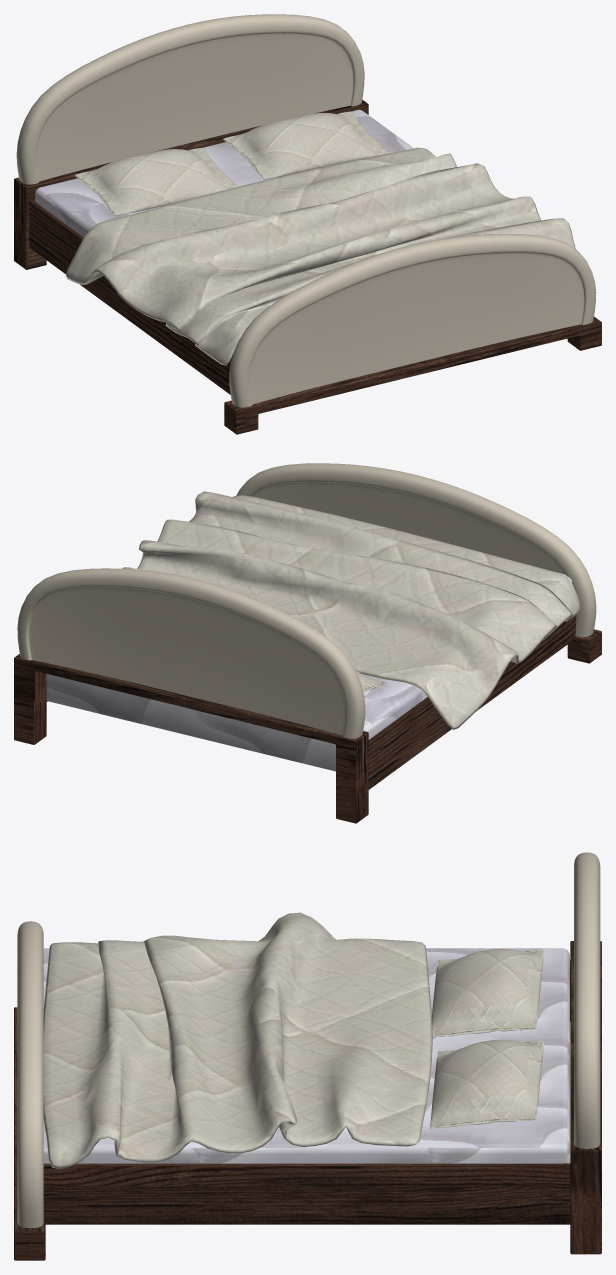
The model's file is bed.fbx.
3 views of the same model, one above another, from view 1: azimuth 30°, elevation 25°; view 2: azimuth 150°, elevation 25°; view 3: azimuth 270°, elevation 25° (orthographic). The views are drawn at different scales.
Visible parts, largest first — view 1: bed.047; view 2: bed.047; view 3: bed.047.
Part boxes in pixels (x1,y1,x2,y2): bed.047: (14,14,601,434); bed.047: (14,463,601,823); bed.047: (14,852,601,1260).
Size of the model in its own units: 220 by 107 by 229.
5 materials, 4 textured.
